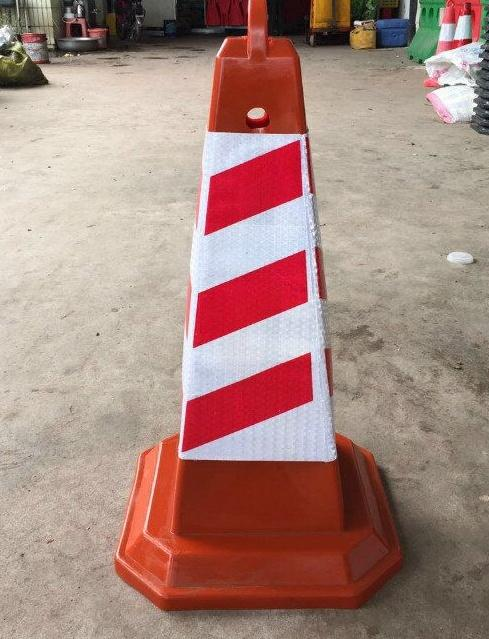cone_barrel: (126, 15, 394, 593)
